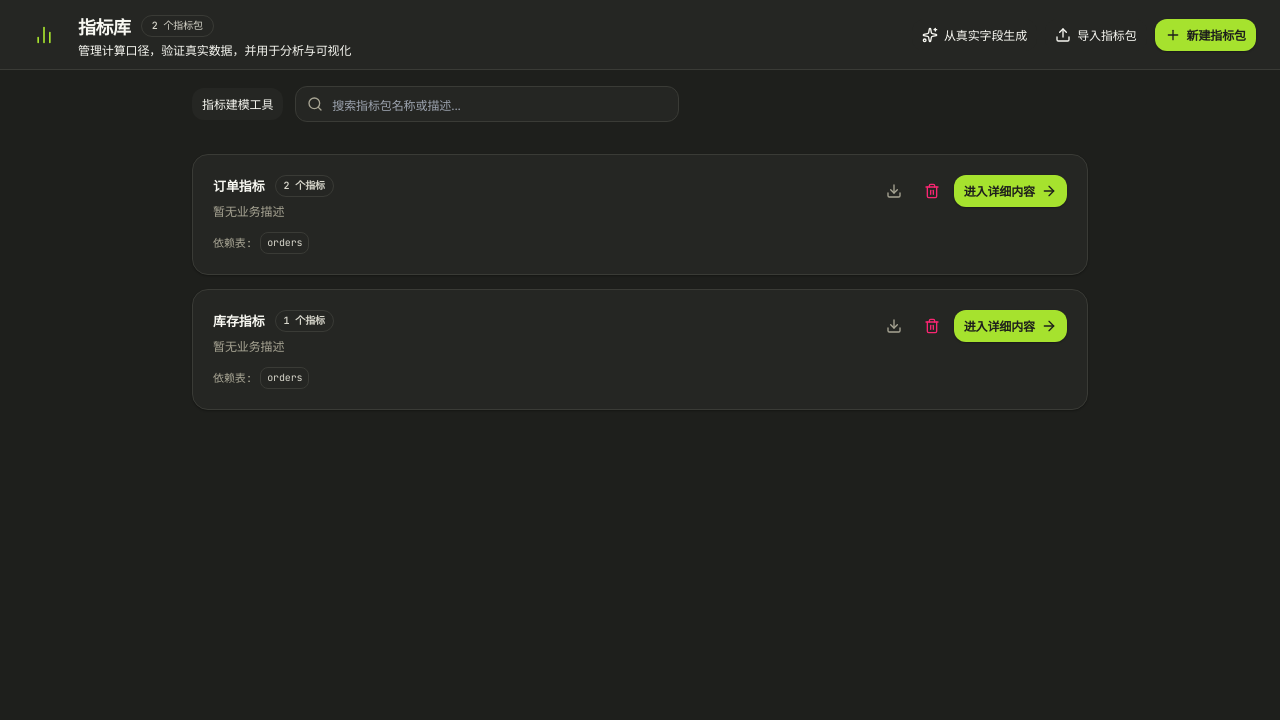
MetricManager workflow regressions › does not reopen a package when validation finishes after navigating back
What coordinates should you click on to do the following:
click the heading "订单指标"
I would click on:
 (239, 186)
Its box is [213,177,264,195].
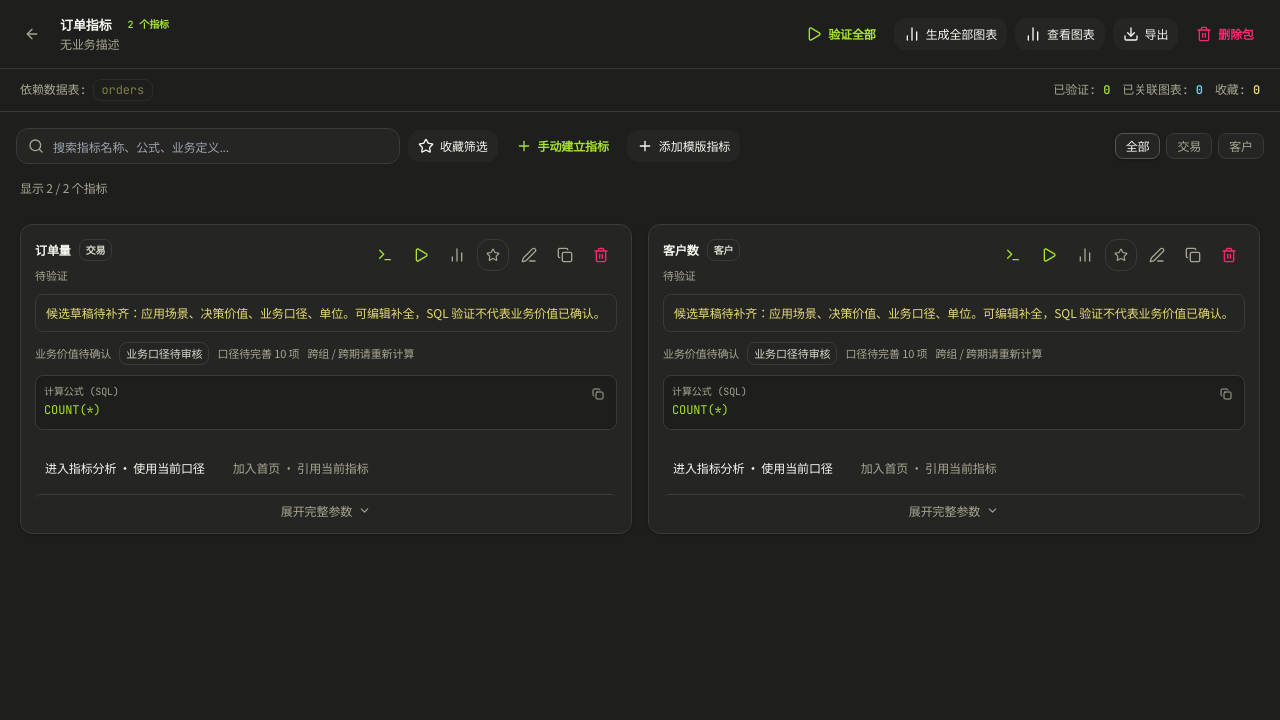
What coordinates should you click on to do the following:
click the button named "验证 SQL 计算" in the row of "订单量"
I would click on:
 (421, 255)
Its box is [405,239,437,271].
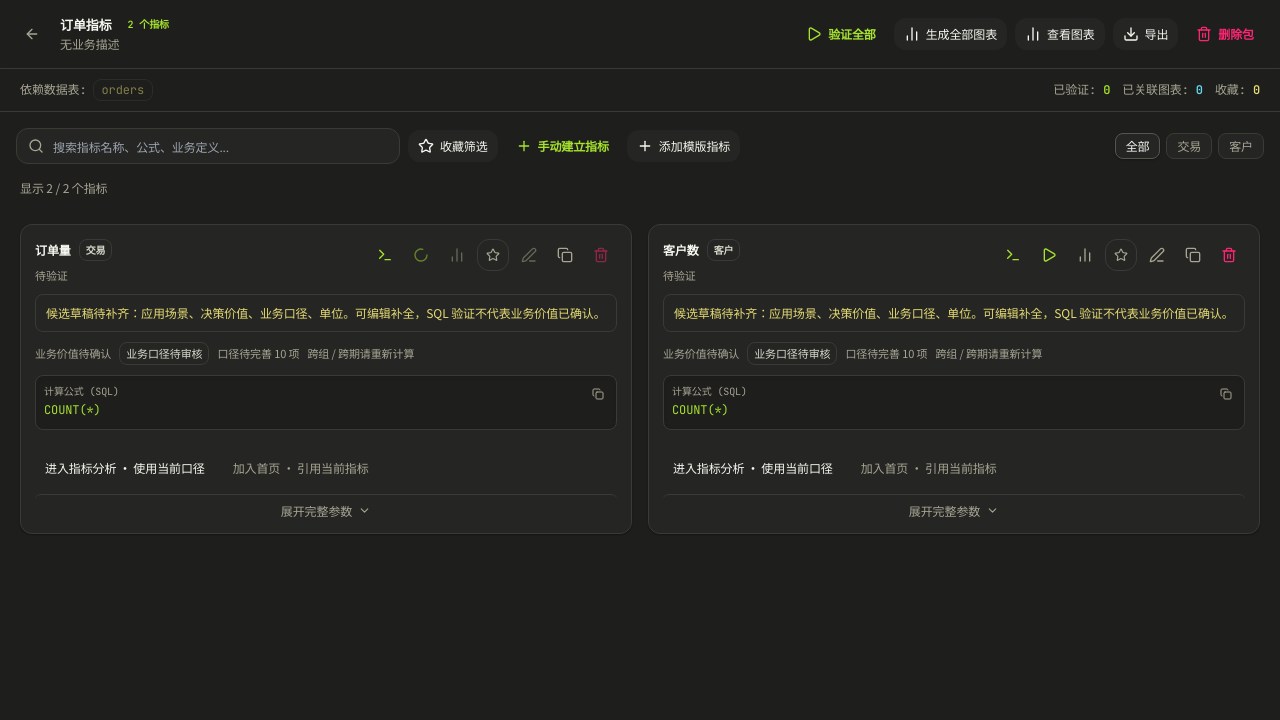
What coordinates should you click on to do the following:
click the button named "返回指标包列表"
I would click on:
 (32, 34)
Its box is [16,18,48,50].
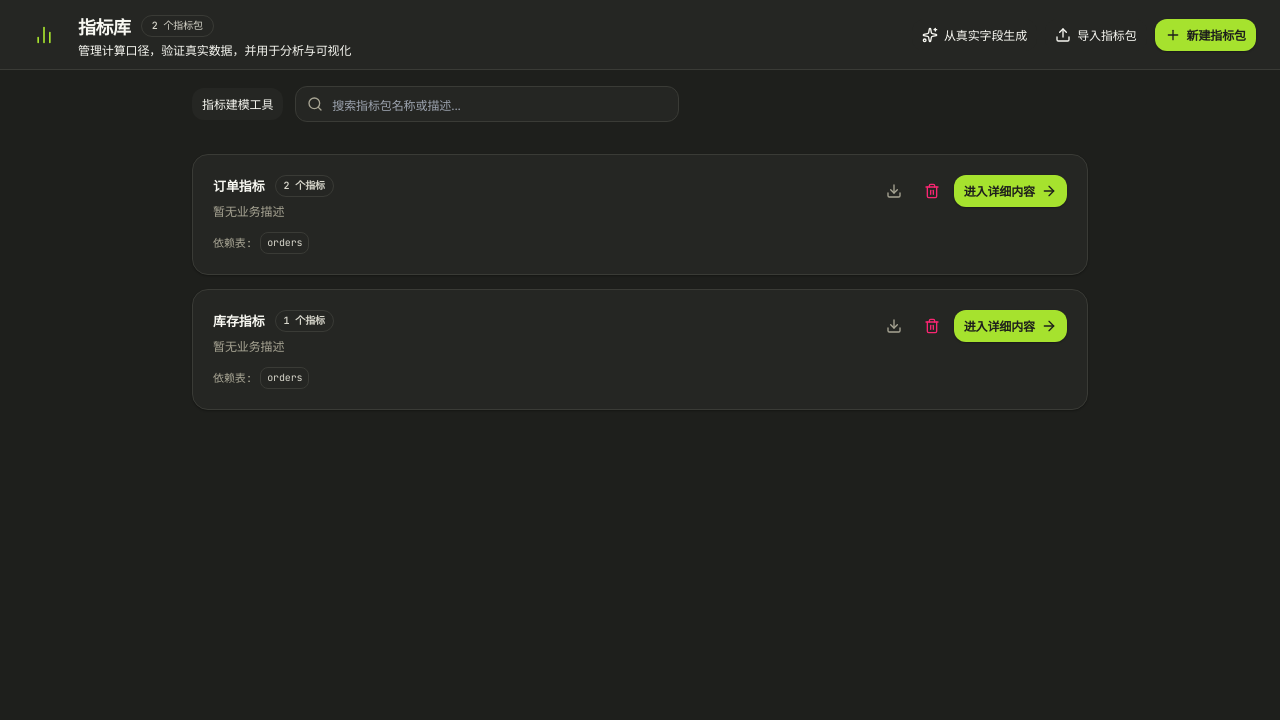
Now the button "返回指标包列表" is gone
